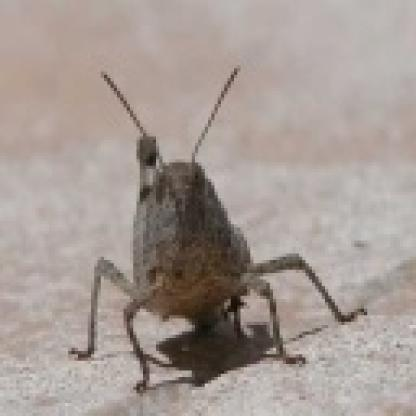grasshopper: (69, 72, 360, 391)
